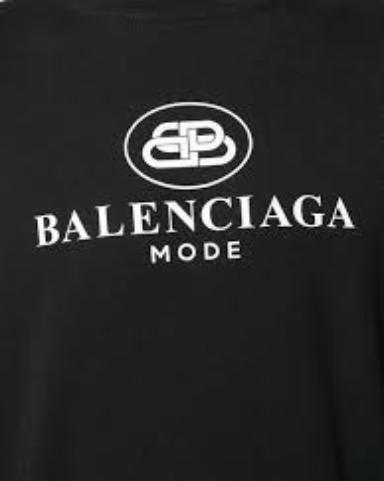BALENCIAGA: (37, 195, 352, 247), (140, 118, 239, 165)
